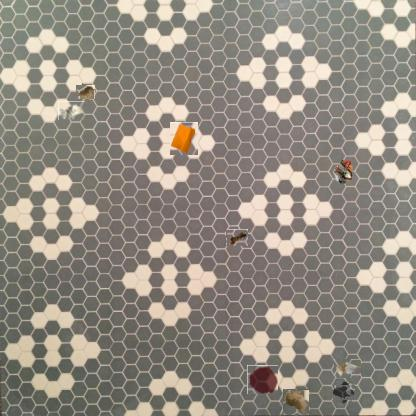dirty: (170, 122, 198, 155), (283, 389, 309, 415), (332, 158, 354, 186), (334, 358, 362, 378), (58, 101, 85, 120), (226, 229, 248, 246), (77, 83, 93, 100)
liquid: (247, 365, 278, 394), (334, 383, 353, 402)
